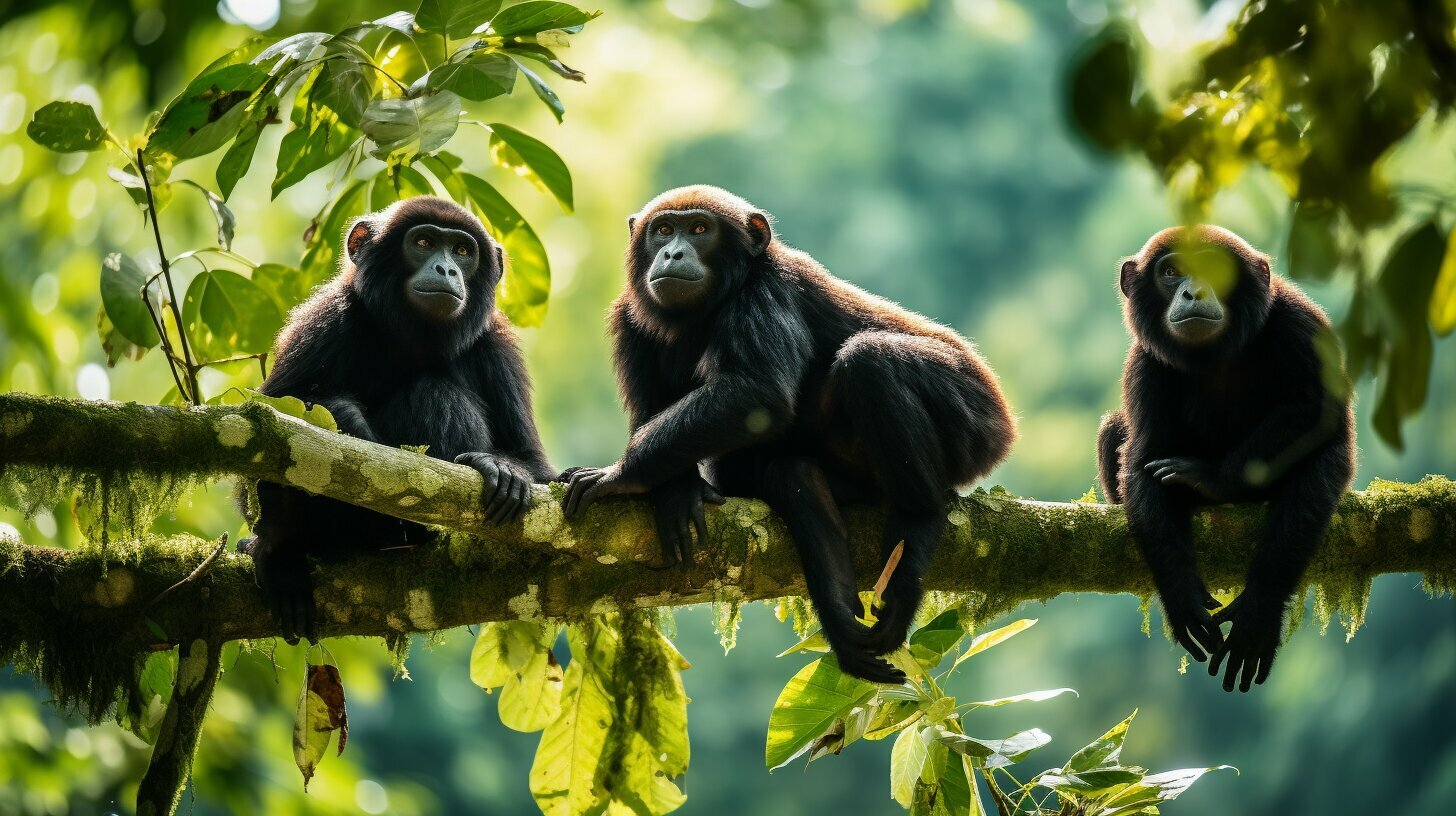monkey_body: (602, 271, 1014, 613), (1117, 291, 1379, 626), (299, 291, 538, 509)
monkey_face: (1095, 233, 1350, 347), (335, 193, 509, 343), (629, 190, 785, 323)
